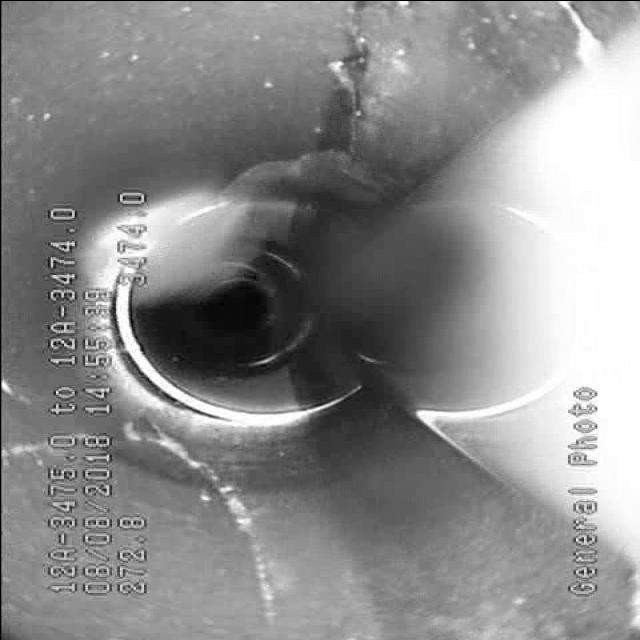Fracture: (288, 1, 408, 162), (175, 429, 292, 587)
